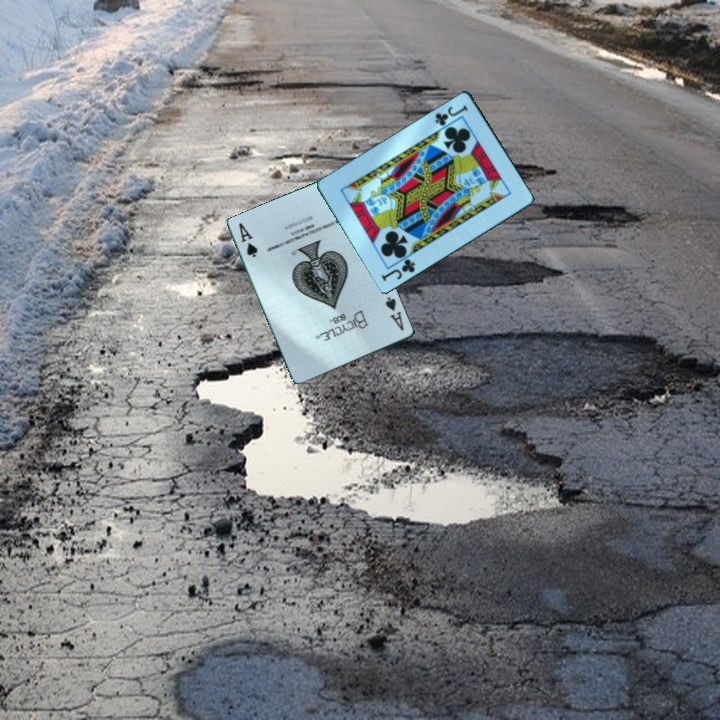As: (235, 219, 261, 260), (382, 293, 407, 334)
Jc: (378, 255, 419, 284), (431, 101, 471, 129)
